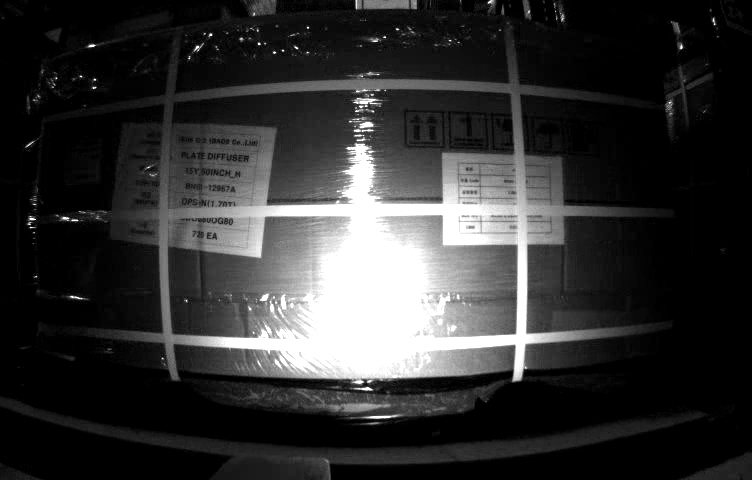True Barcode: (64, 142, 98, 183)
